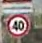limite 40: (6, 12, 30, 38)
